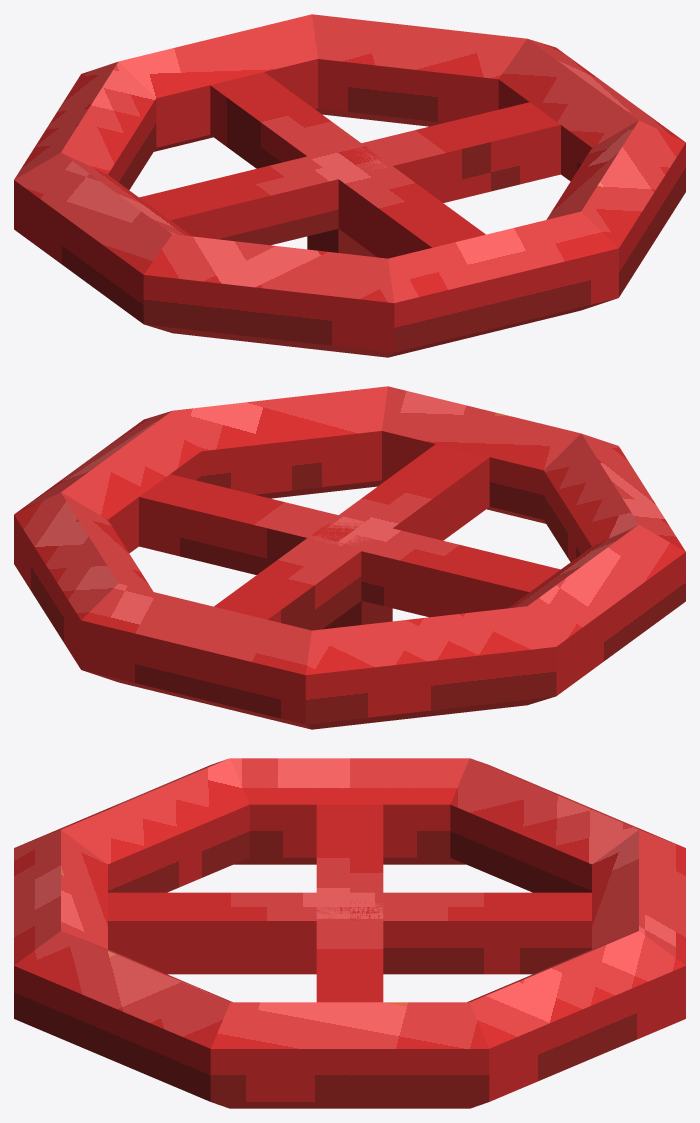
File: Valve.fbx
The picture shows the model from 3 angles, top to bottom: view 1: azimuth 30°, elevation 25°; view 2: azimuth 150°, elevation 25°; view 3: azimuth 270°, elevation 25°; orthographic projection. The views are drawn at different scales.
Parts seen in each view (by area): view 1: torus; view 2: torus; view 3: torus.
Part boxes in pixels (x1,y1,x2,y2): torus: (14, 14, 685, 357); torus: (14, 386, 685, 729); torus: (14, 758, 685, 1108).
Size of the model in its own units: 34.87 by 10.19 by 34.87.
Materials: 1 (1 with a texture image).
